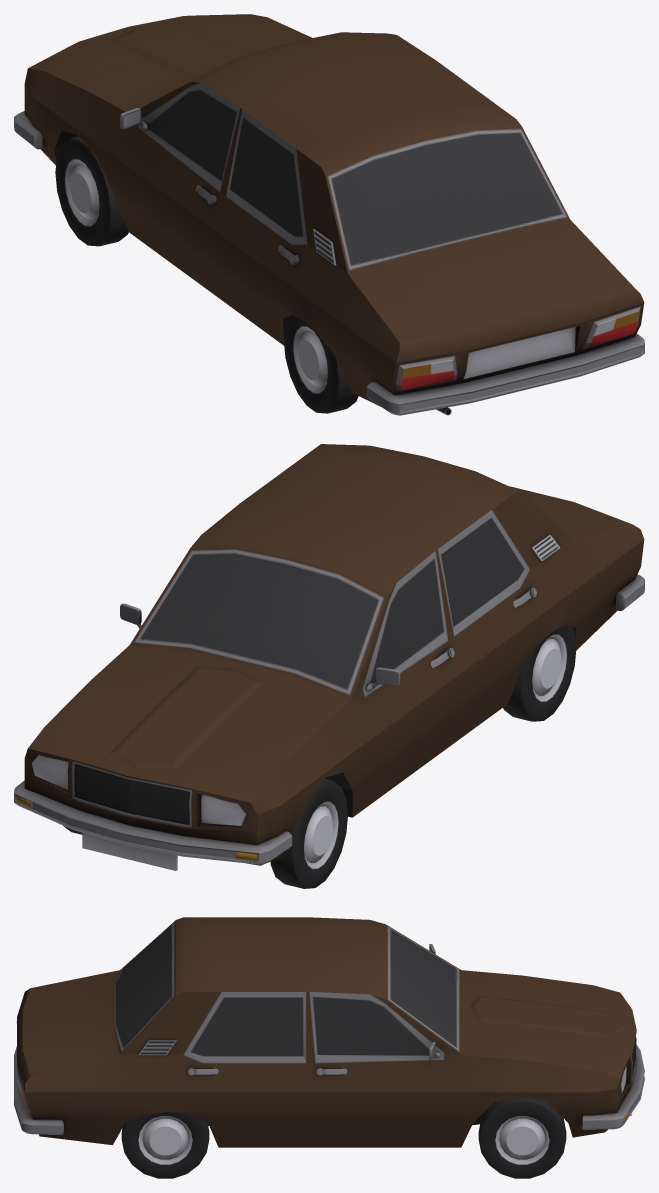
The model's file is Car10.FBX.
3 views of the same model, one above another, from view 1: azimuth 30°, elevation 25°; view 2: azimuth 150°, elevation 25°; view 3: azimuth 270°, elevation 25° (orthographic). The views are drawn at different scales.
Parts seen in each view (by area): view 1: Body, FLWheel, RLWheel; view 2: Body, FLWheel, RLWheel; view 3: Body, FRWheel, RRWheel.
Boxes of the visible parts, x1,y1,x2,y2 form: Body: (14, 14, 644, 415); FLWheel: (55, 136, 128, 246); RLWheel: (283, 315, 358, 413); Body: (14, 444, 644, 870); FLWheel: (270, 778, 347, 888); RLWheel: (503, 625, 576, 721); Body: (14, 917, 644, 1147); FRWheel: (478, 1096, 566, 1178); RRWheel: (121, 1111, 209, 1178).
Size of the model in its own units: 1.73 by 1.45 by 4.33.
Materials: 2 (2 with a texture image).
